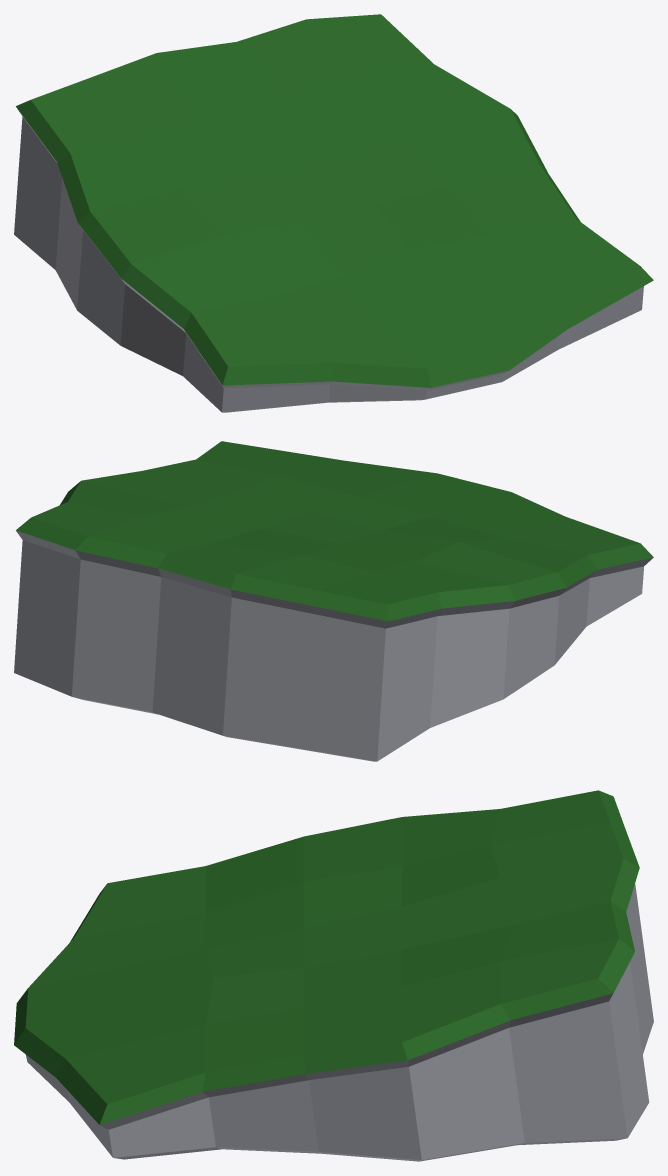
Rendered from cliff2.fbx.
3 renders of one model, top to bottom at view 1: azimuth 30°, elevation 25°; view 2: azimuth 150°, elevation 25°; view 3: azimuth 270°, elevation 25°, orthographic. The views are drawn at different scales.
Parts seen in each view (by area): view 1: Plane; view 2: Plane; view 3: Plane.
Part boxes in pixels (x1,y1,x2,y2): Plane: [14, 14, 653, 412]; Plane: [14, 441, 653, 761]; Plane: [14, 790, 653, 1161].
Size of the model in its own units: 219 by 73.04 by 249.
